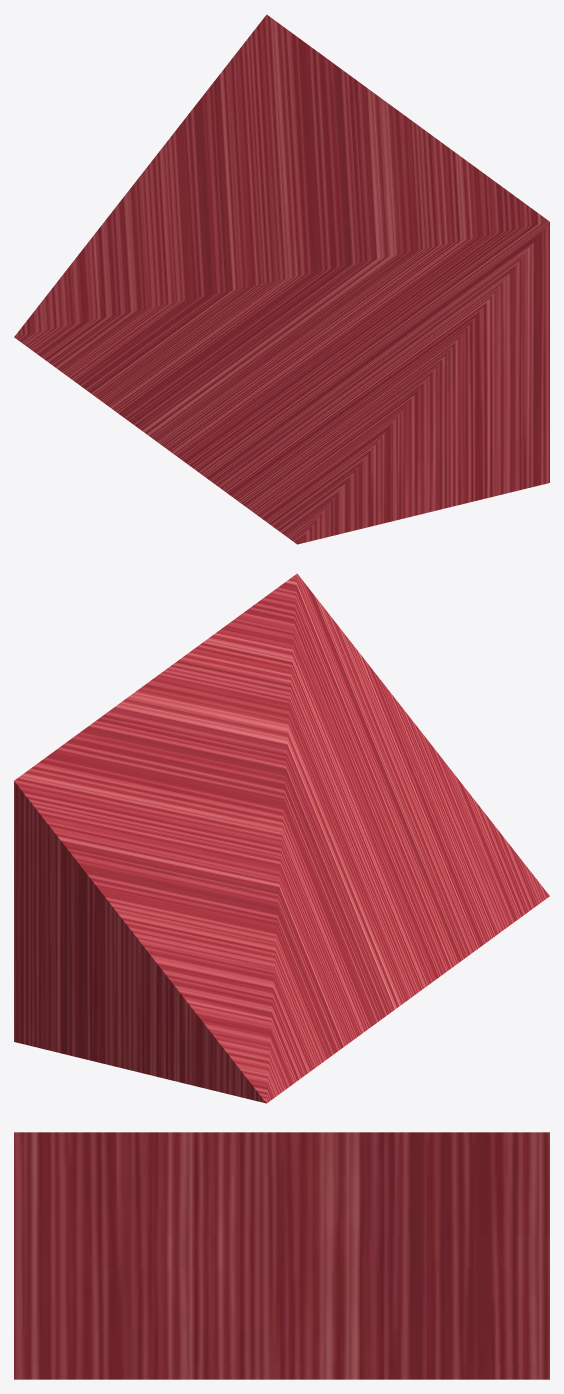
3 views of the same model, one above another, from view 1: azimuth 30°, elevation 25°; view 2: azimuth 150°, elevation 25°; view 3: azimuth 270°, elevation 25° (orthographic). The views are drawn at different scales.
Visible parts, largest first — view 1: base4.001; view 2: base4.001; view 3: base4.001.
Boxes of the visible parts, x1,y1,x2,y2 form: base4.001: (14,14,549,544); base4.001: (14,573,549,1103); base4.001: (14,1132,549,1379).
Bounding box in the file's own units: 0.7896 × 0.7797 × 1.53.
1 material, 1 textured.
